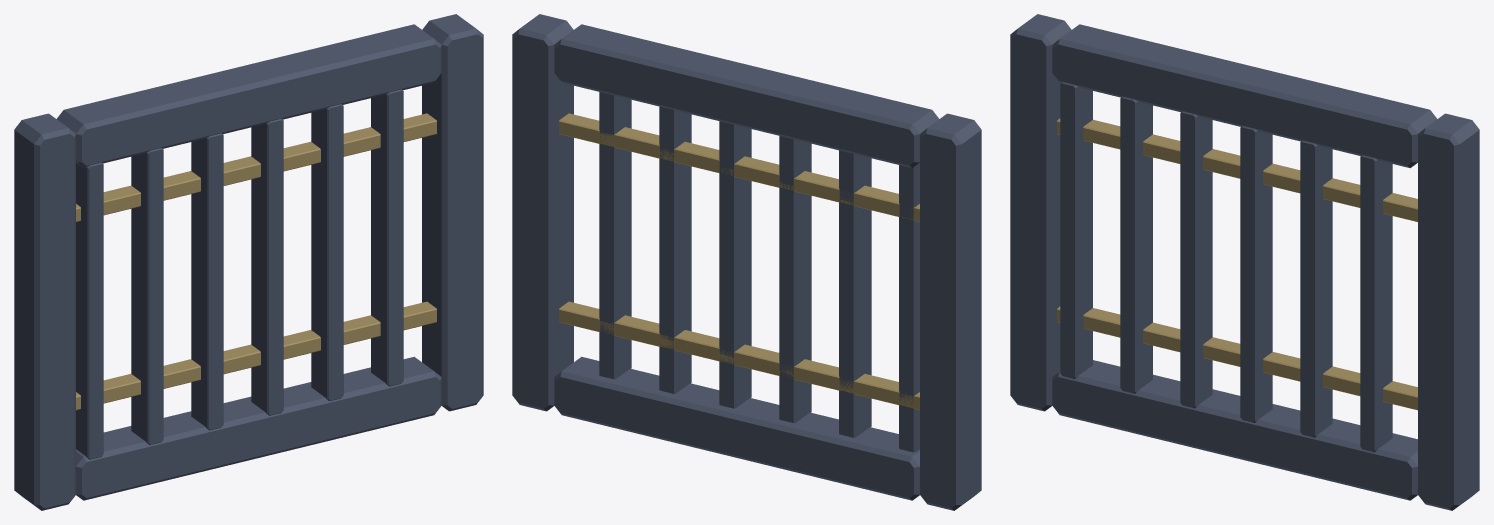
Rendered from wall-grille.glb.
The picture shows the model from 3 angles, left to right: view 1: azimuth 30°, elevation 25°; view 2: azimuth 150°, elevation 25°; view 3: azimuth 330°, elevation 25°; orthographic projection.
Parts seen in each view (by area): view 1: wall-grille__body; view 2: wall-grille__body; view 3: wall-grille__body.
Part boxes in pixels (x1,y1,x2,y2): wall-grille__body: [14, 14, 483, 510]; wall-grille__body: [512, 14, 981, 510]; wall-grille__body: [1010, 14, 1479, 510].
Bounding box in the file's own units: 1.5 × 1.2 × 0.14.
